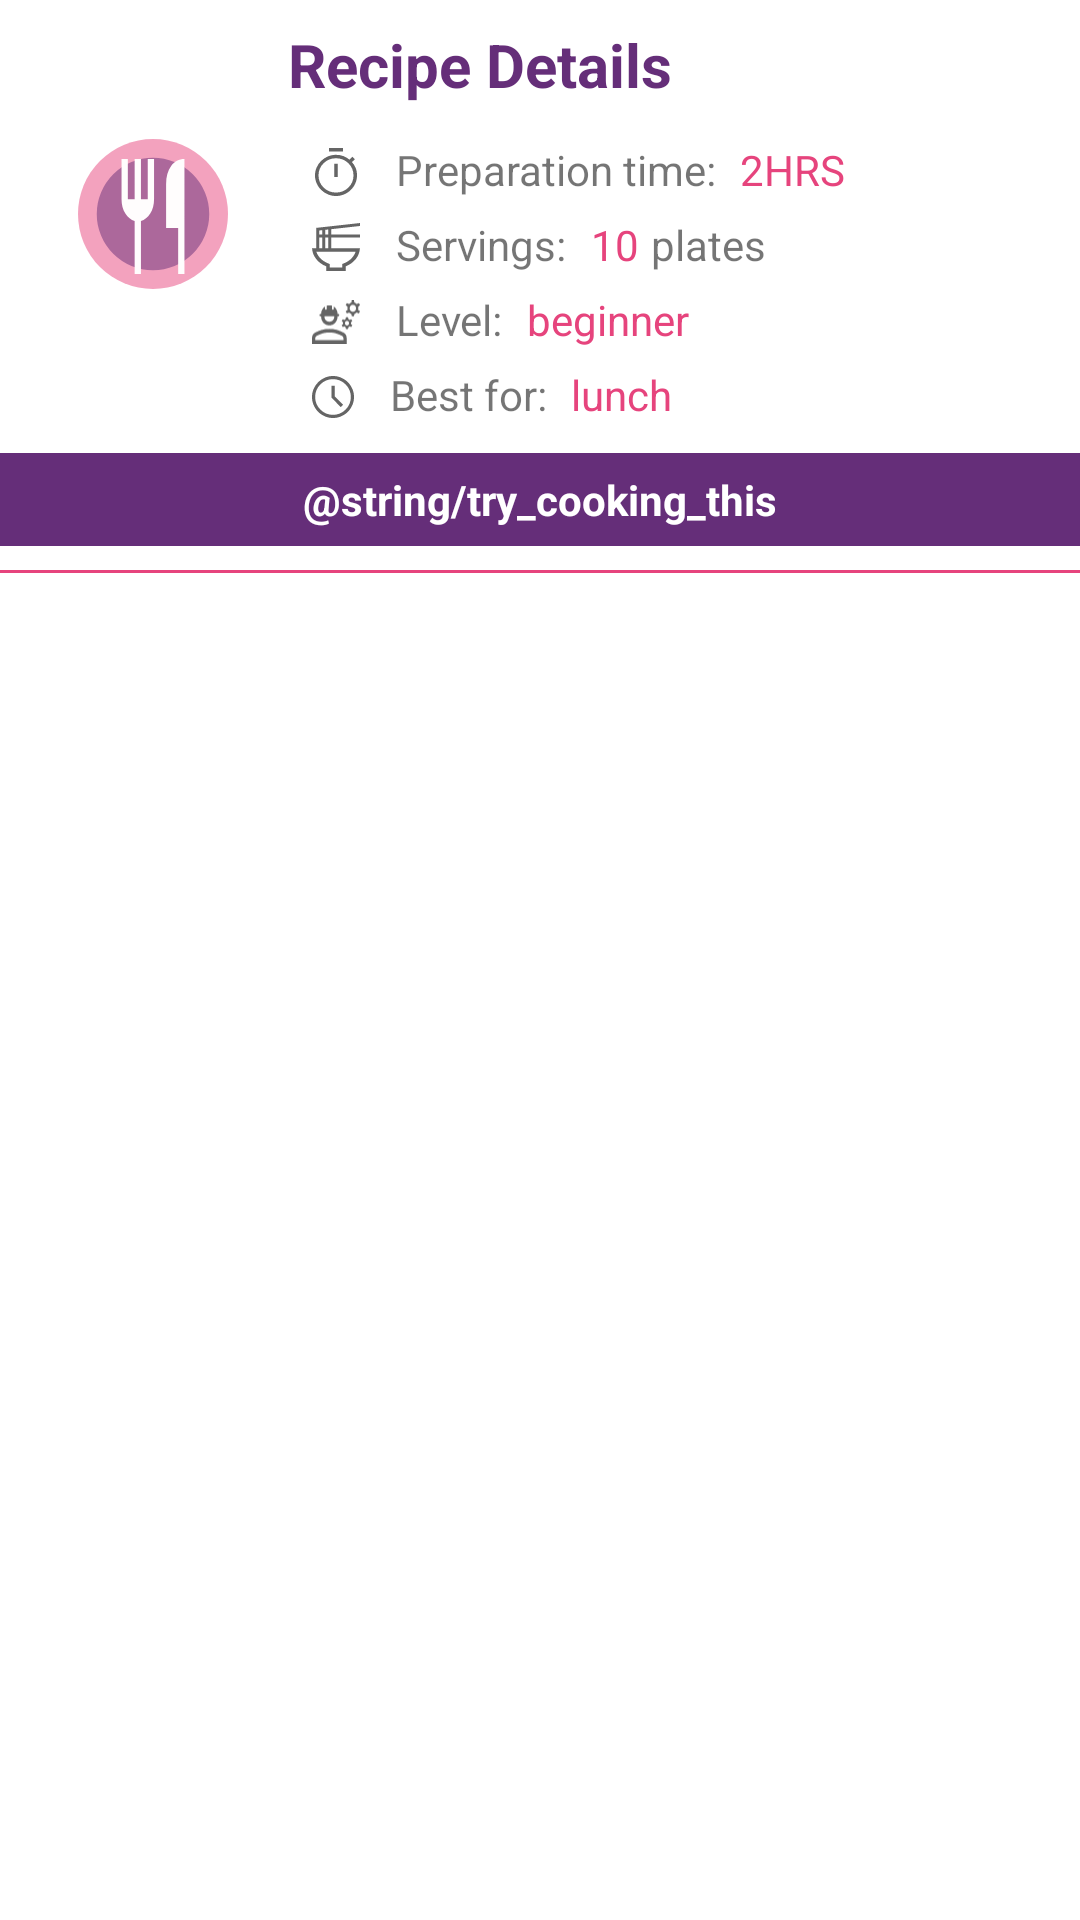

Where to tap for icons on this 1080px x 1920px app screen, as [x,y]:
dish: [153,214]
meal time: [333,397]
prep time: [336,172]
